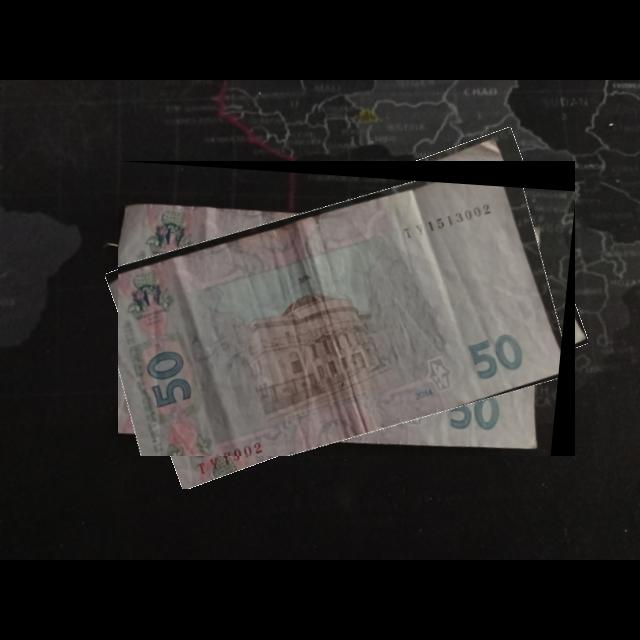50uah: (118, 161, 576, 457)
